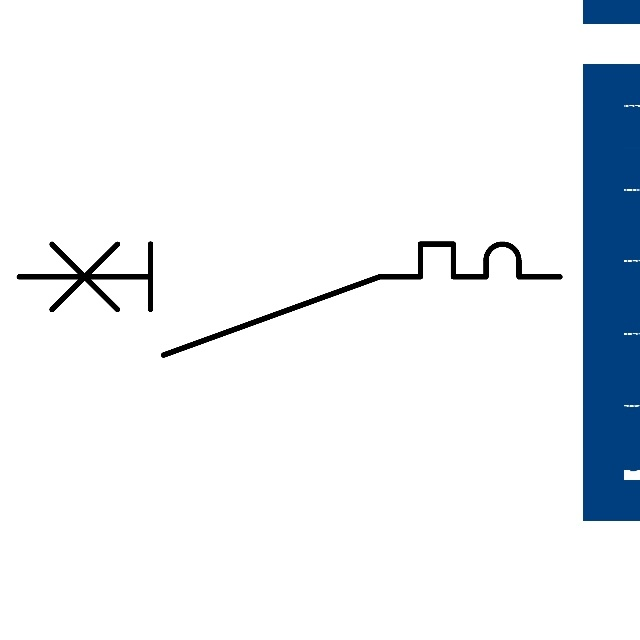interruptor_termomagnetico: (5, 230, 574, 369)
